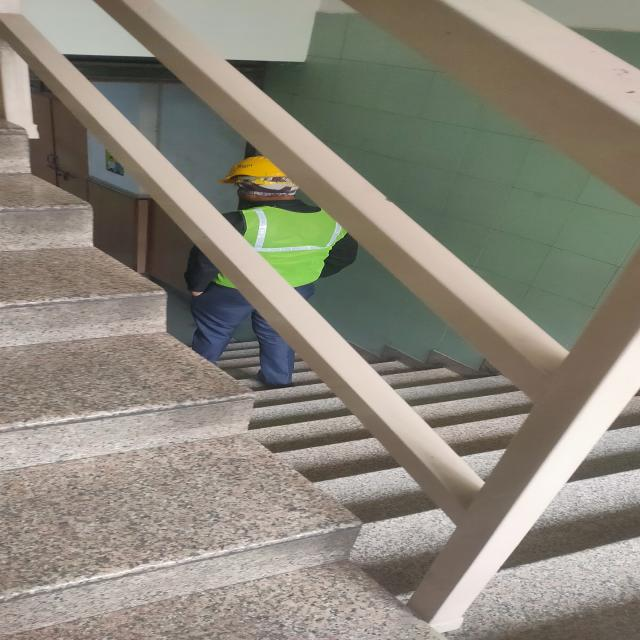safe: (156, 150, 341, 390)
